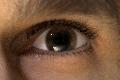eye: (46, 28, 76, 52)
